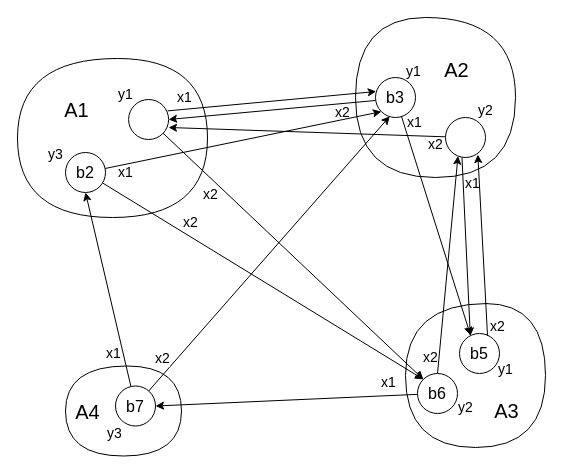
This 563x474 diagram has some shape labels left out. The centre of each missing label's shape, as x and y in pixels:
b1: (148,119)
b4: (465,137)
